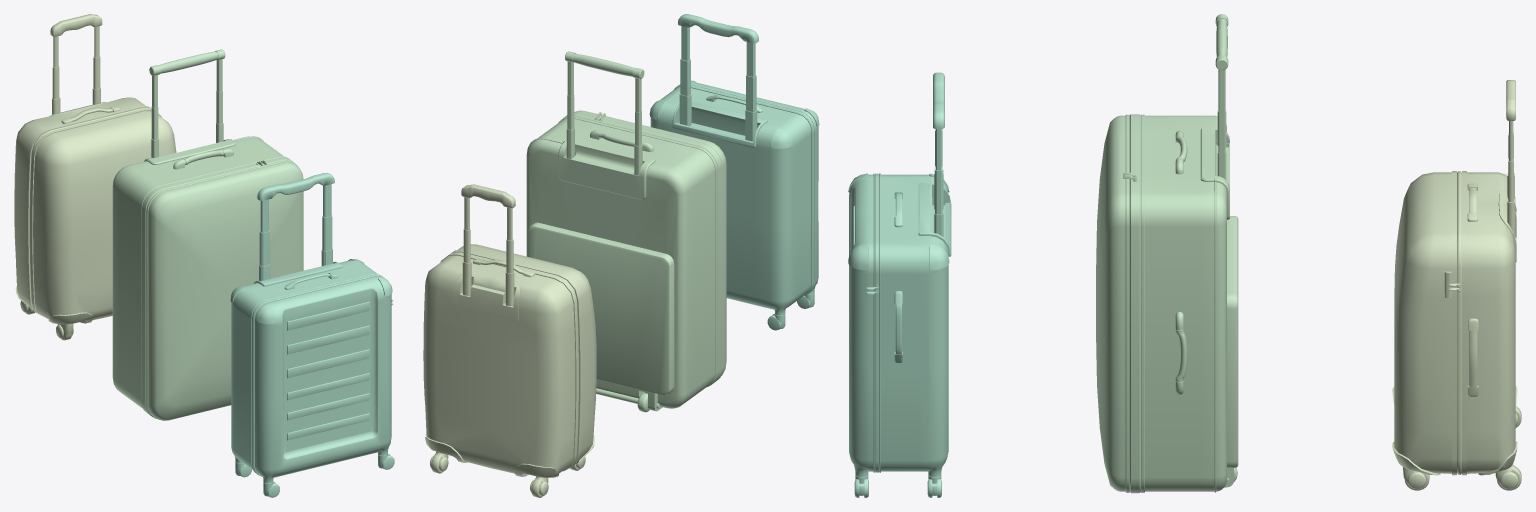
The model's file is Luggage.fbx.
3 renders of one model, left to right at view 1: azimuth 30°, elevation 25°; view 2: azimuth 150°, elevation 25°; view 3: azimuth 270°, elevation 25°, orthographic. The views are drawn at different scales.
Visible parts, largest first — view 1: Case_2, Case_3, Case_1, Handle_3, Handle_2, Handle_1; view 2: Case_2, Case_1, Case_3, Handle_3, Handle_2, Handle_1; view 3: Case_2, Case_1, Case_3, Handle_2, Handle_3, Handle_1.
Part boxes in pixels (<box>): Case_2: <box>112,136,303,420</box>; Case_3: <box>230,259,393,483</box>; Case_1: <box>14,97,176,324</box>; Handle_3: <box>257,173,334,280</box>; Handle_2: <box>149,49,225,158</box>; Handle_1: <box>50,14,102,114</box>; Case_2: <box>526,110,726,412</box>; Case_1: <box>423,244,596,477</box>; Case_3: <box>649,80,819,315</box>; Handle_3: <box>678,14,758,141</box>; Handle_2: <box>565,51,644,175</box>; Handle_1: <box>461,184,515,306</box>; Case_2: <box>1096,114,1238,493</box>; Case_1: <box>1392,171,1517,475</box>; Case_3: <box>848,173,951,477</box>; Handle_2: <box>1215,14,1228,180</box>; Handle_3: <box>933,72,944,236</box>; Handle_1: <box>1506,80,1515,236</box>.
Size of the model in its own units: 73.29 by 143 by 206.
